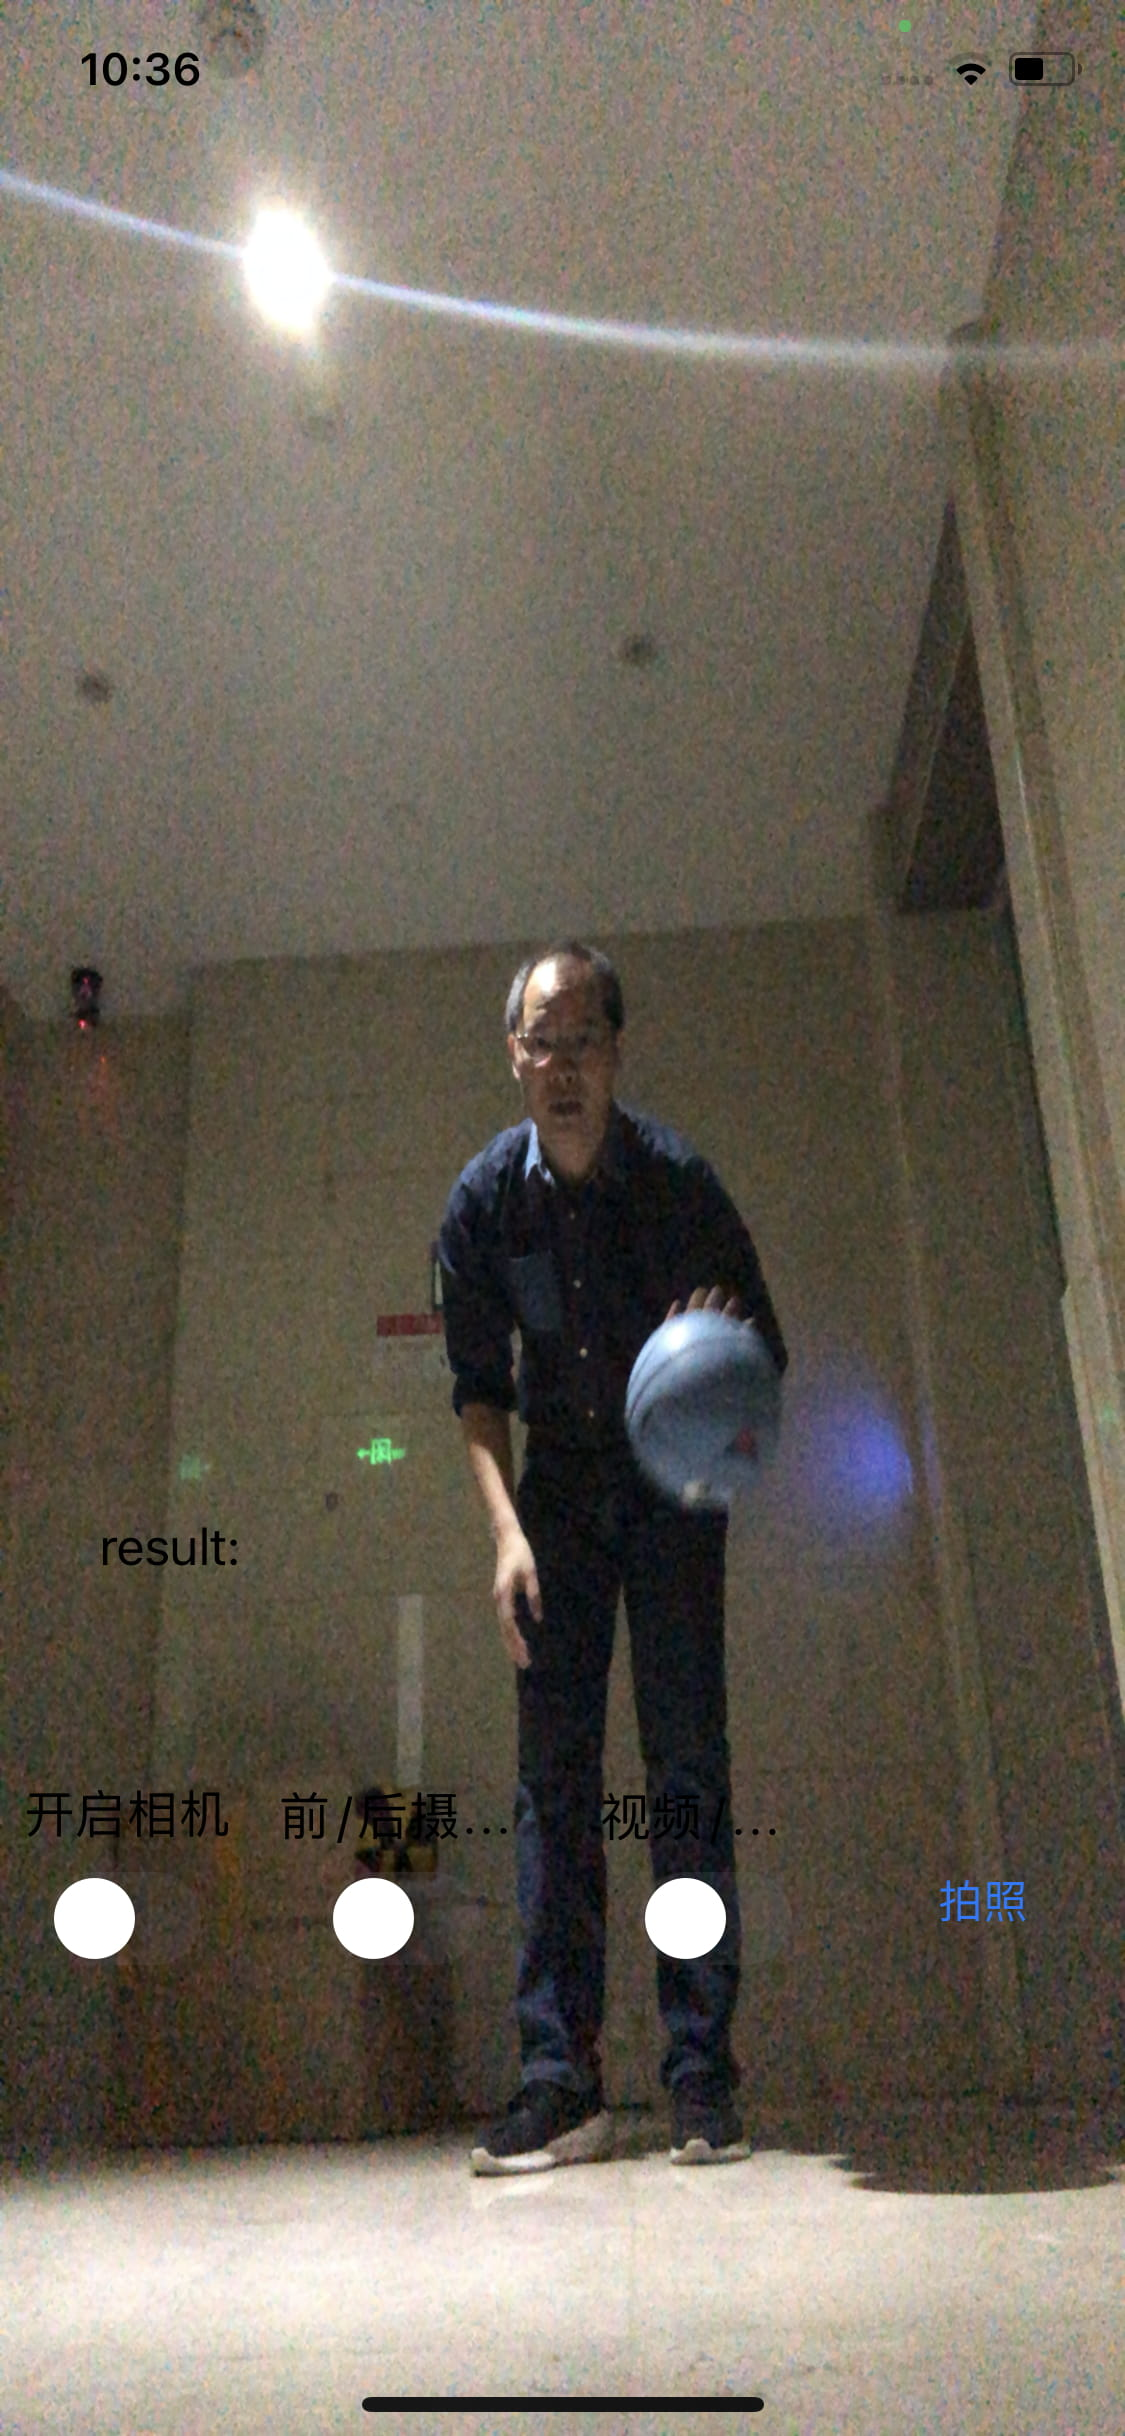ball: (617, 1307, 785, 1507)
